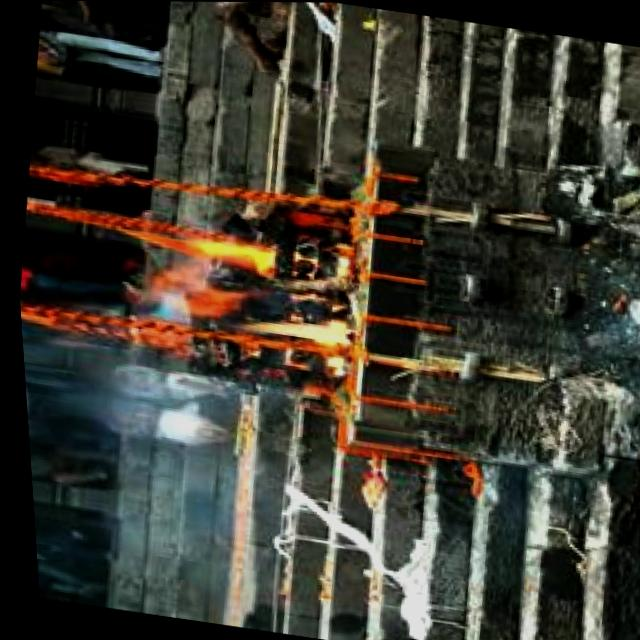Fire: (108, 219, 363, 360)
